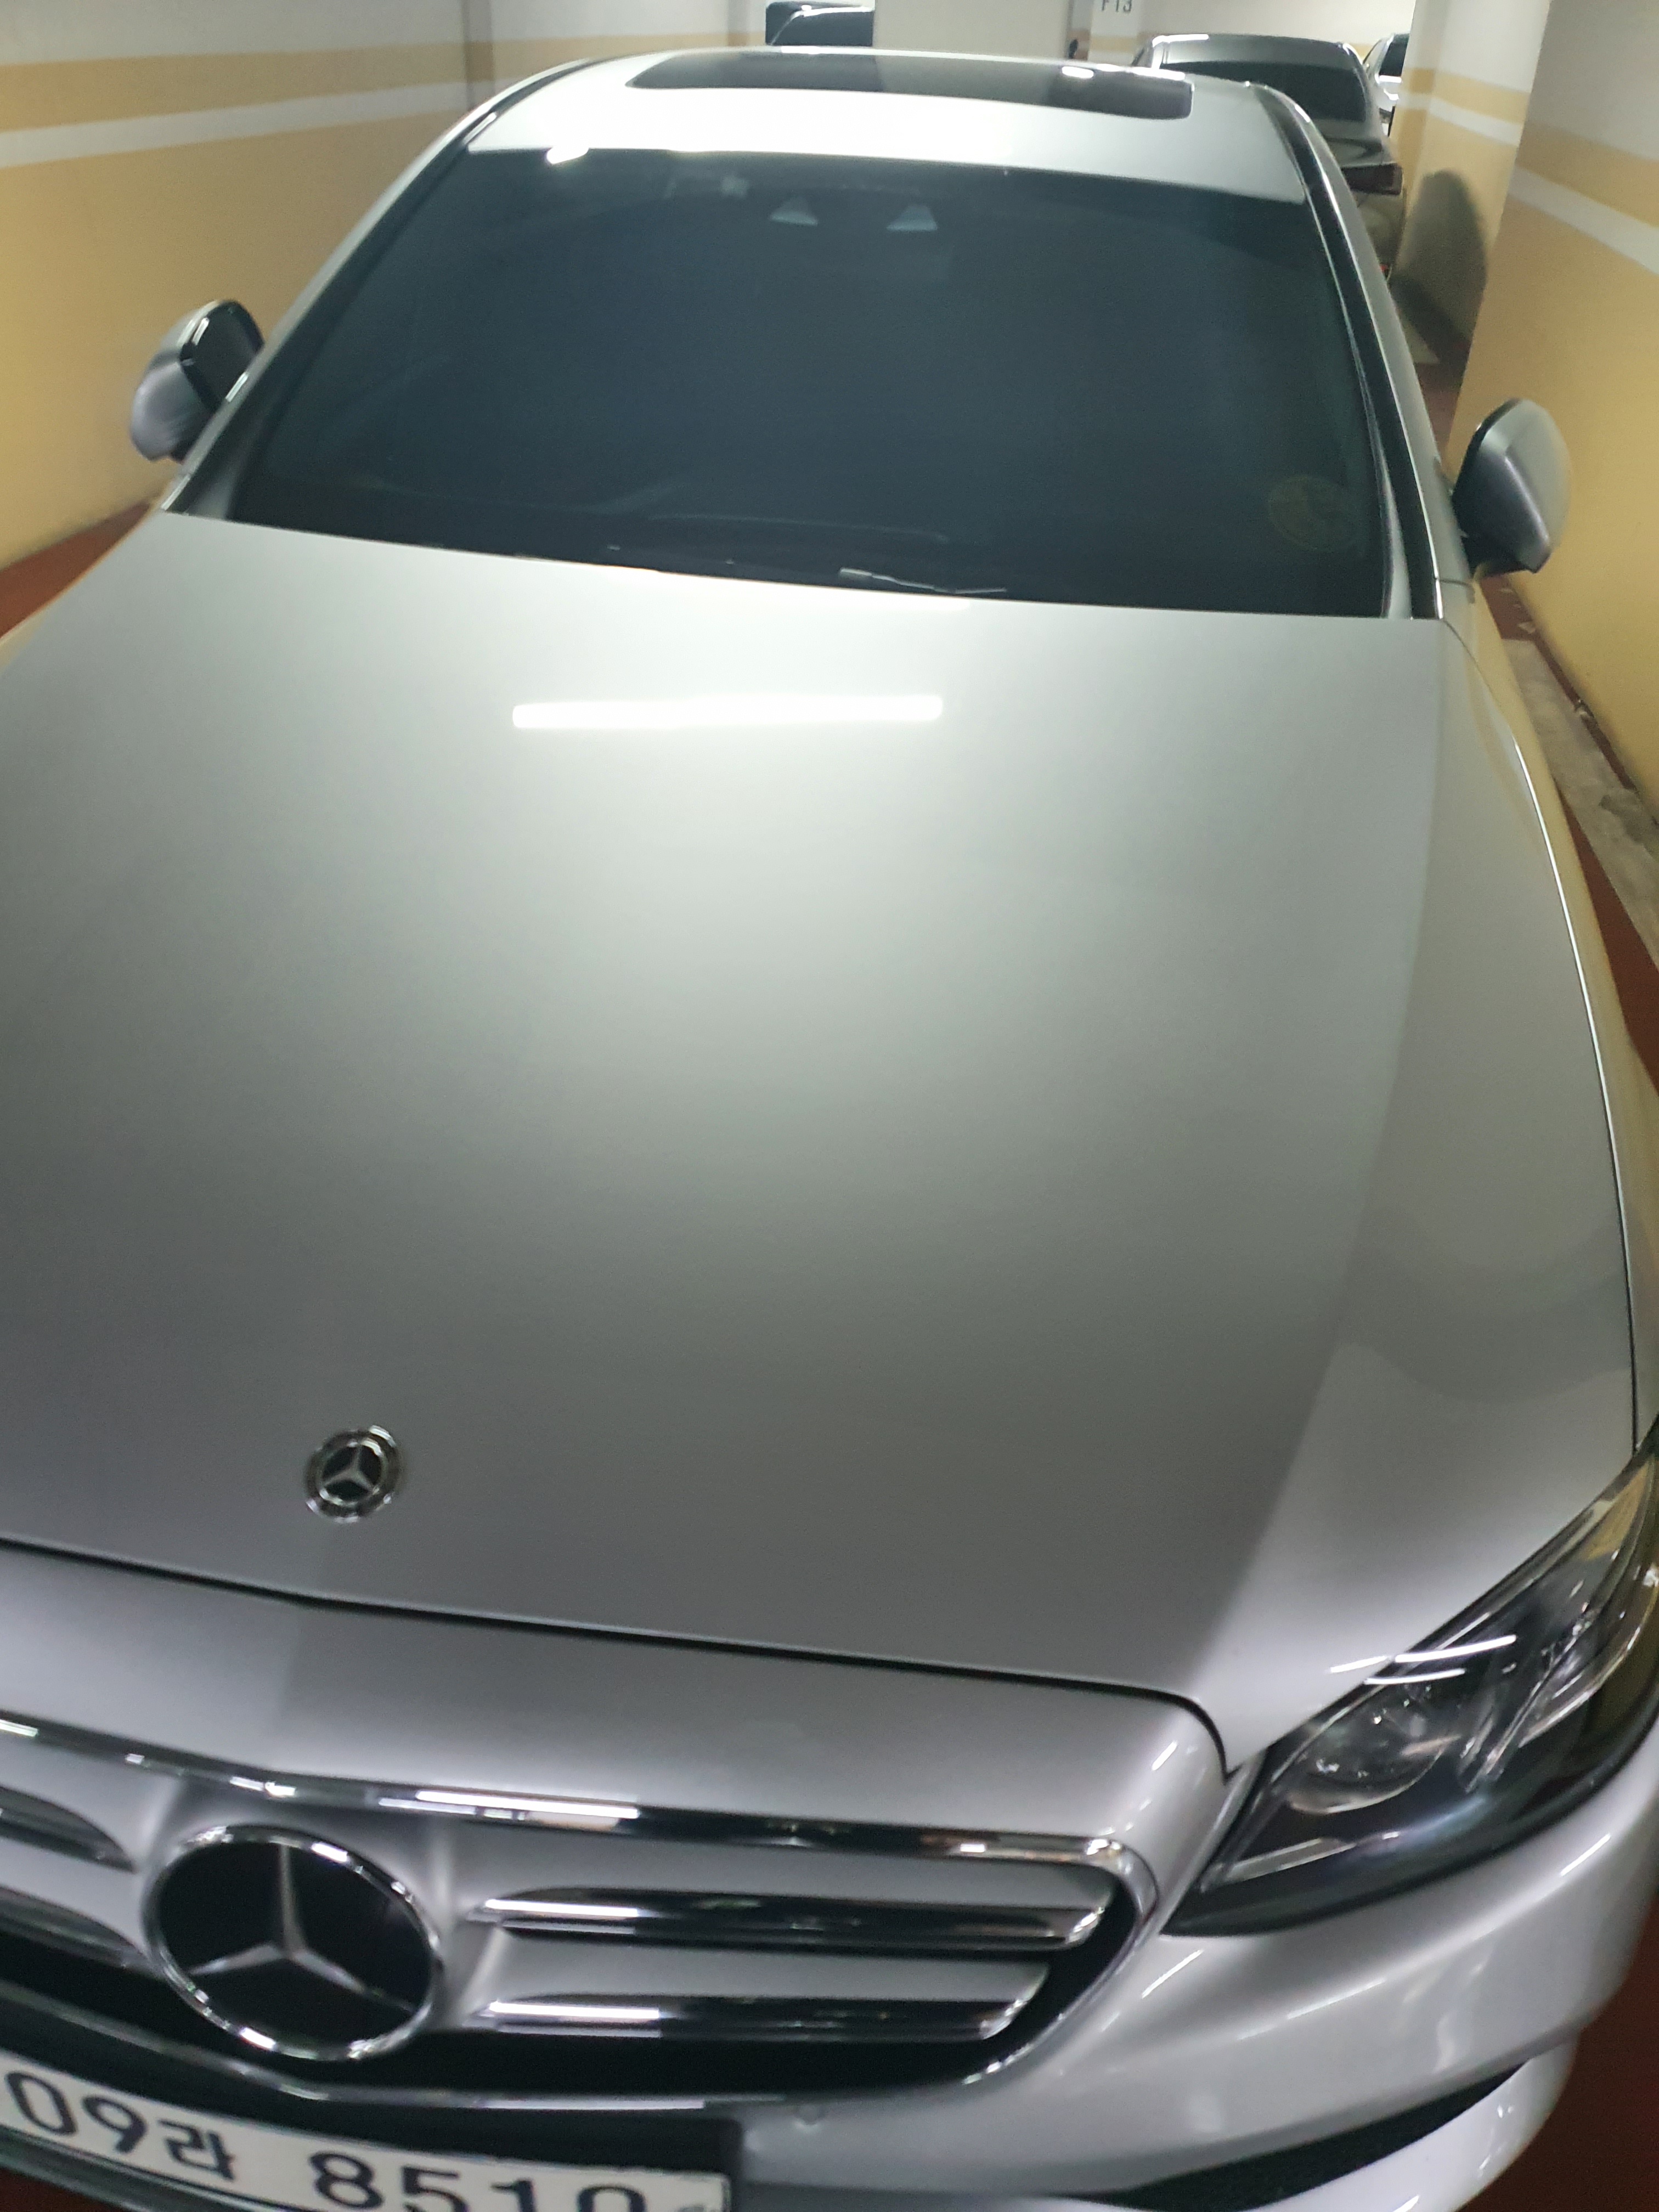disabled_parking: (1265, 470, 1368, 556)
